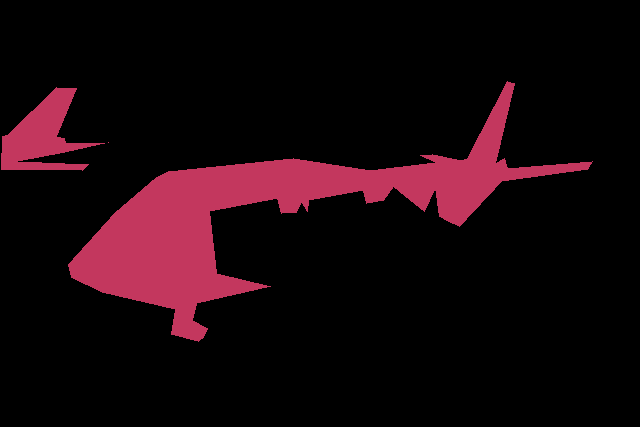Airplane: (68, 81, 593, 341), (1, 87, 108, 171)
